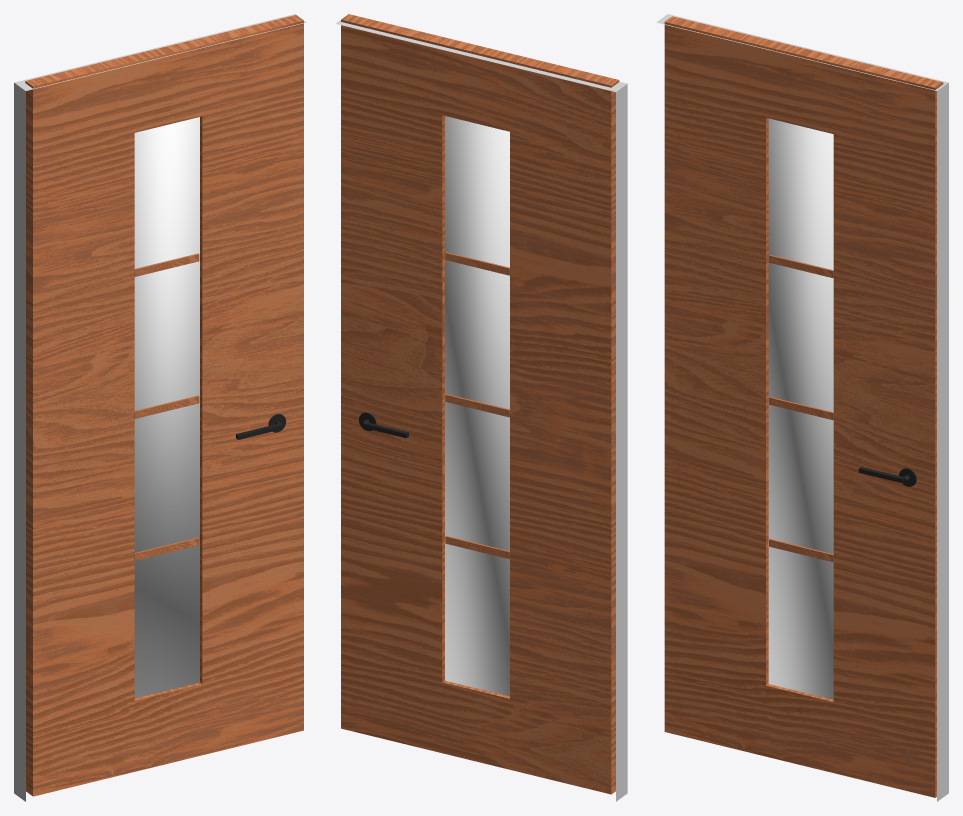
Rendered from drzwi1ruch.glb.
3 views of the same model, side by side, from view 1: azimuth 30°, elevation 25°; view 2: azimuth 150°, elevation 25°; view 3: azimuth 330°, elevation 25° (orthographic).
Parts seen in each view (by area): view 1: Drzwi_Premium_Naprawione, Drzwi_Premium_Z_Klamkami_Odwrotnymi_Symetrycznymi_RamaZew, Sześcian.091, Sześcian.001, Sześcian.002, Sześcian; view 2: Drzwi_Premium_Naprawione, Drzwi_Premium_Z_Klamkami_Odwrotnymi_Symetrycznymi_RamaZew, Sześcian.091, Sześcian, Sześcian.001, Sześcian.002; view 3: Drzwi_Premium_Naprawione, Drzwi_Premium_Z_Klamkami_Odwrotnymi_Symetrycznymi_RamaZew, Sześcian.091, Sześcian.001, Sześcian.002, Sześcian, Drzwi_Premium_Naprawione_Klamka_Back.
Boxes of the visible parts, box(x1,y1,x2,y2) form: Drzwi_Premium_Naprawione: box(25, 15, 303, 796); Drzwi_Premium_Z_Klamkami_Odwrotnymi_Symetrycznymi_RamaZew: box(134, 117, 199, 698); Sześcian.091: box(14, 14, 306, 801); Sześcian.001: box(134, 395, 199, 418); Sześcian.002: box(134, 537, 199, 560); Sześcian: box(134, 253, 199, 276); Drzwi_Premium_Naprawione: box(341, 14, 619, 794); Drzwi_Premium_Z_Klamkami_Odwrotnymi_Symetrycznymi_RamaZew: box(445, 116, 509, 696); Sześcian.091: box(335, 20, 627, 801); Sześcian: box(445, 252, 509, 275); Sześcian.001: box(445, 394, 509, 417); Sześcian.002: box(445, 535, 509, 559); Drzwi_Premium_Naprawione: box(664, 16, 943, 797); Drzwi_Premium_Z_Klamkami_Odwrotnymi_Symetrycznymi_RamaZew: box(768, 118, 833, 699); Sześcian.091: box(656, 14, 948, 801); Sześcian.001: box(769, 397, 833, 420); Sześcian.002: box(769, 539, 833, 562); Sześcian: box(769, 255, 833, 278); Drzwi_Premium_Naprawione_Klamka_Back: box(858, 467, 916, 486).
Size of the model in its own units: 0.83 by 2.01 by 0.096.
Materials: 62 (4 with a texture image).
